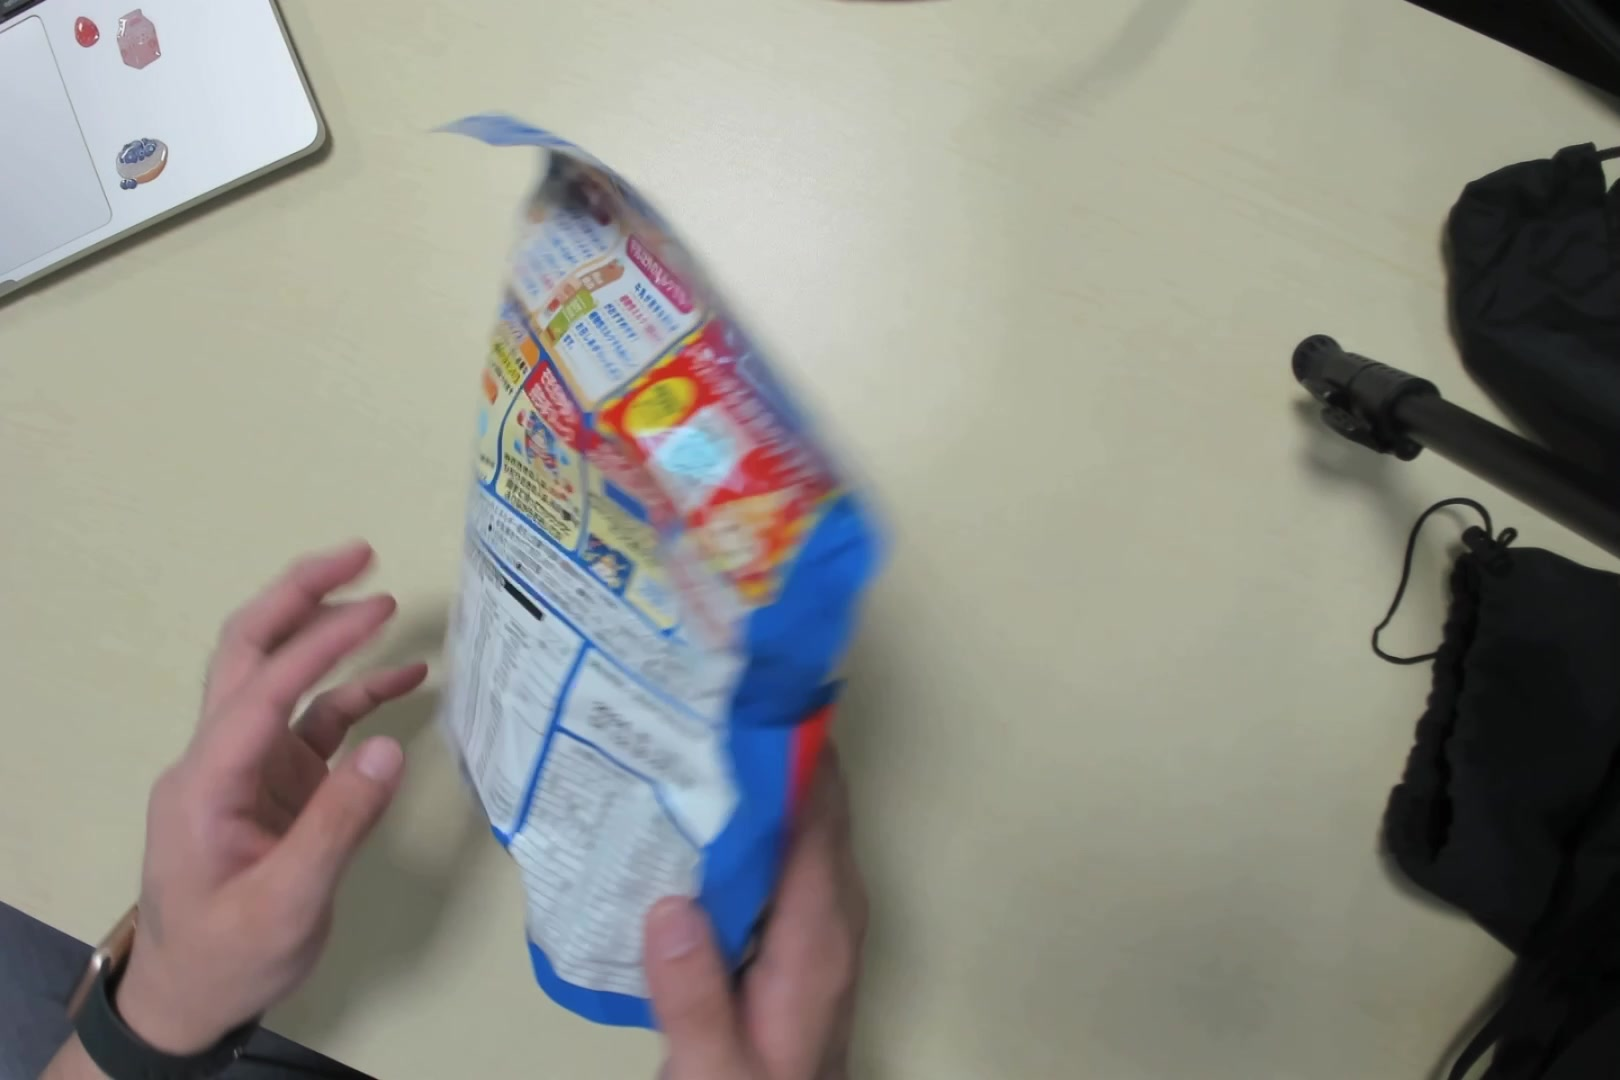BreakfastCereals_200-299g_NonHalal_NonHealthy: (433, 123, 844, 994)
